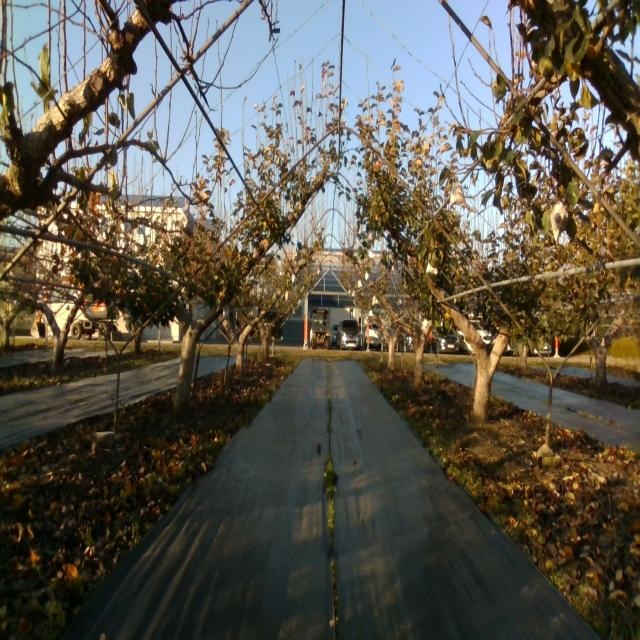pearbags: (550, 200, 568, 241), (179, 202, 195, 242), (449, 181, 466, 206)
